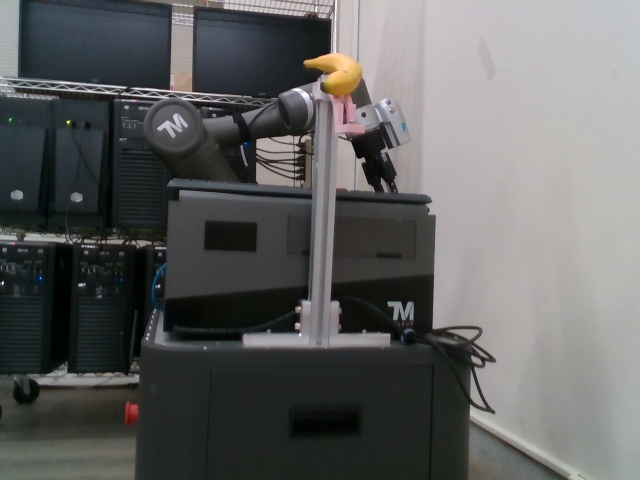banana: (300, 46, 365, 100)
